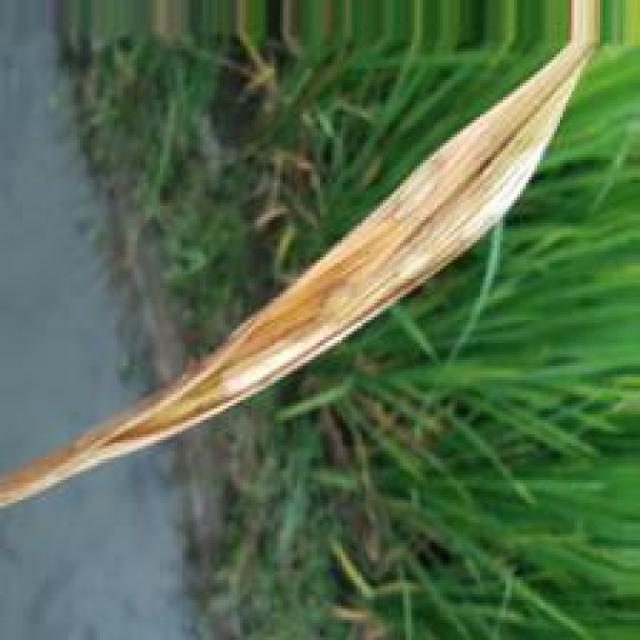Leaf_Scald: (218, 114, 551, 405)
